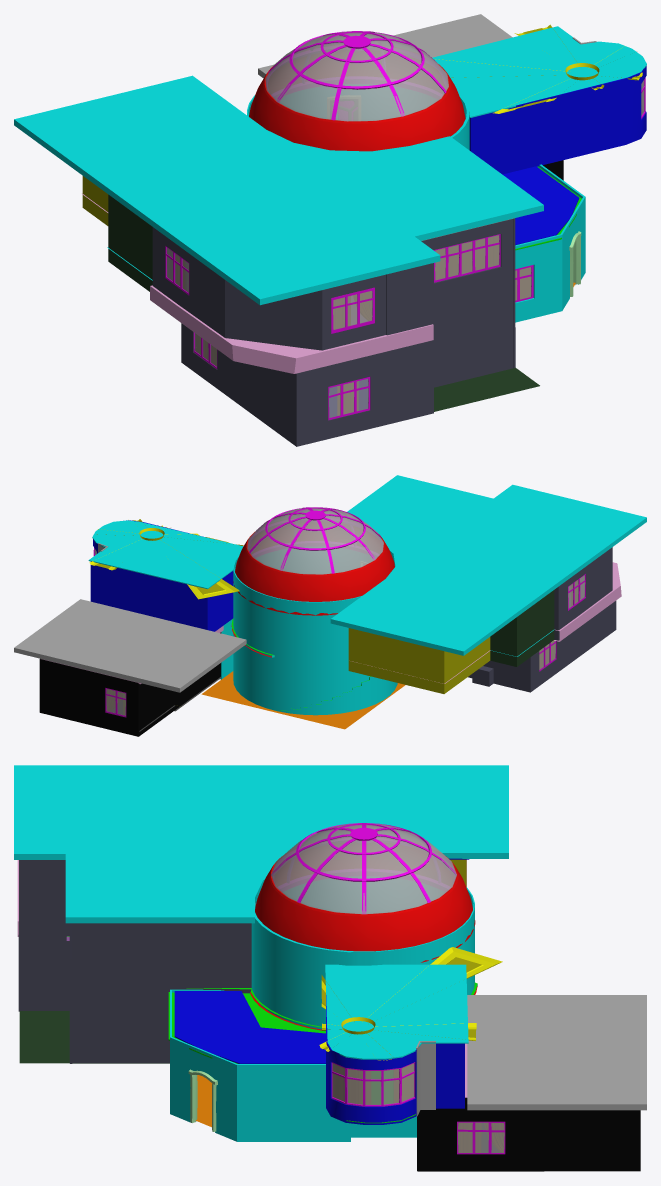
3 views of the same model, one above another, from view 1: azimuth 30°, elevation 25°; view 2: azimuth 150°, elevation 25°; view 3: azimuth 270°, elevation 25° (orthographic). The views are drawn at different scales.
Parts seen in each view (by area): view 1: Base_Roof_2, Base_Wall_2, Base_Wall_3, Base_DoubleWall, Base_Roof_1, Base_Floor_2, Base_Floor_1; view 2: Base_Roof_2, Base_Wall_2, Base_DoubleCircularWall, Base_Roof_1, Base_Wall_3, Base_Floor_1, Base_Floor_2; view 3: Base_Roof_2, Base_Roof_1, Base_Wall_3, Base_DoubleWall, Base_Wall_2, Base_DoubleCircularWall, Base_Floor_1.
Boxes of the visible parts, <box> form: Base_Roof_2: <box>14,24,646,305</box>; Base_Wall_2: <box>82,37,646,350</box>; Base_Wall_3: <box>181,160,585,446</box>; Base_DoubleWall: <box>386,218,515,387</box>; Base_Roof_1: <box>258,14,581,250</box>; Base_Floor_2: <box>82,193,433,373</box>; Base_Floor_1: <box>434,282,575,411</box>; Base_Roof_2: <box>88,475,646,655</box>; Base_Wall_2: <box>90,520,612,693</box>; Base_DoubleCircularWall: <box>233,554,397,715</box>; Base_Roof_1: <box>14,599,246,692</box>; Base_Wall_3: <box>39,601,616,736</box>; Base_Floor_1: <box>139,671,405,731</box>; Base_Floor_2: <box>352,562,621,683</box>; Base_Roof_2: <box>14,765,508,1060</box>; Base_Roof_1: <box>168,991,646,1110</box>; Base_Wall_3: <box>18,935,640,1171</box>; Base_DoubleWall: <box>19,860,251,1063</box>; Base_Wall_2: <box>326,859,466,1124</box>; Base_DoubleCircularWall: <box>251,887,474,1031</box>; Base_Floor_1: <box>19,1011,543,1171</box>.
Size of the model in its own units: 3599 by 1392 by 3517.
